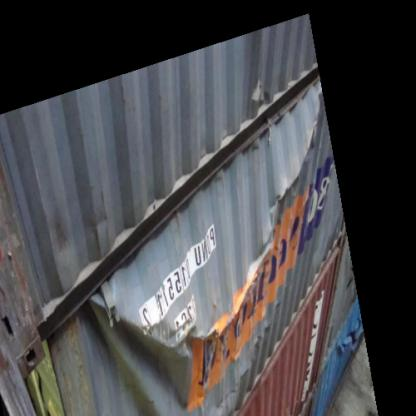Damage: (190, 124, 329, 338), (86, 301, 191, 412)
